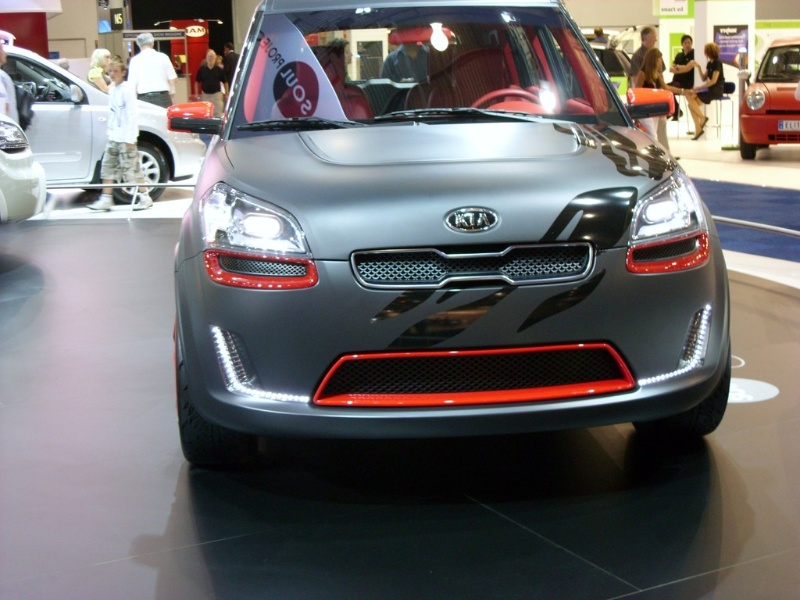person: (106, 58, 147, 214), (627, 24, 670, 131), (130, 34, 174, 99), (696, 43, 724, 119), (199, 47, 228, 114), (675, 34, 695, 84)
